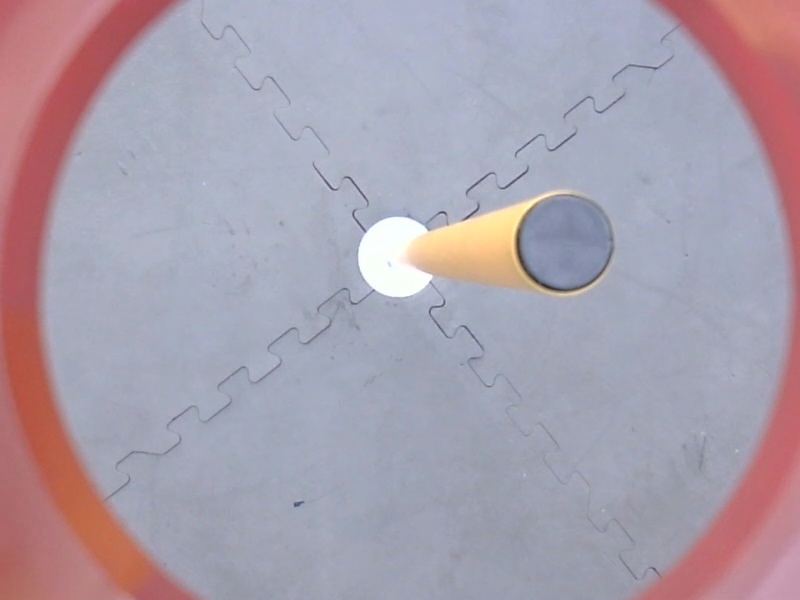tip: (509, 185, 622, 302)
